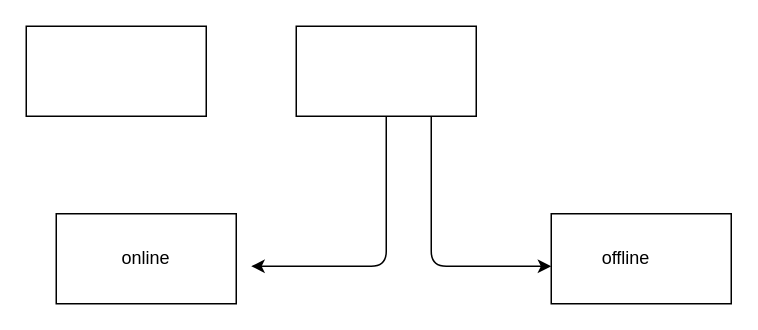
Some shapes in this 758 by 330 pixel diagram are drawn without their labels. The box of each missing label's shape, as (x1, y1, x2, y2) in pixels:
carouselImages: (25, 25, 206, 116)
courses: (295, 25, 476, 116)
